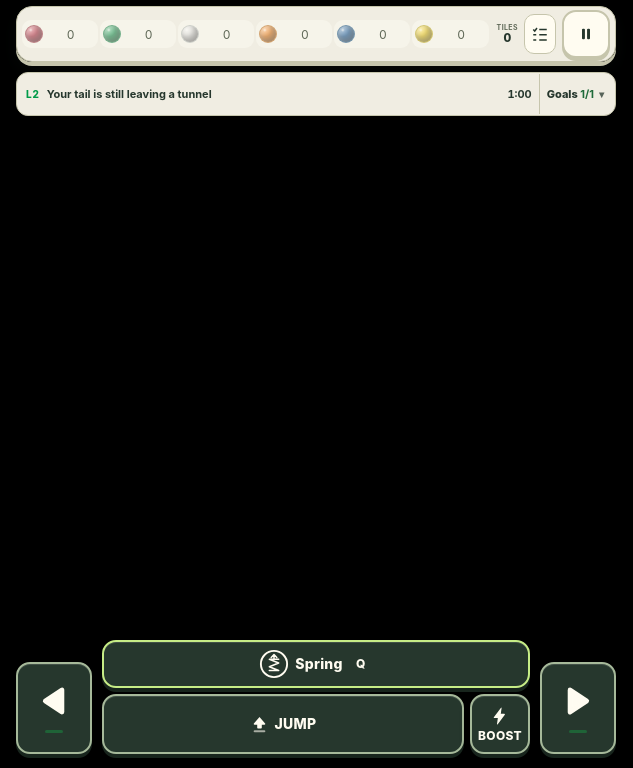
Test: replaces the next task with the finishing instruction once every task is done
Expected: the text with class "worm-story-next" reads "Your tail is still leaving a tunnel", [47,87,212,101]
What coordinates should you click on to do the following:
click the button with class "worm-story-glance"
I would click on:
 (575, 94)
Its box is [539,74,611,114].
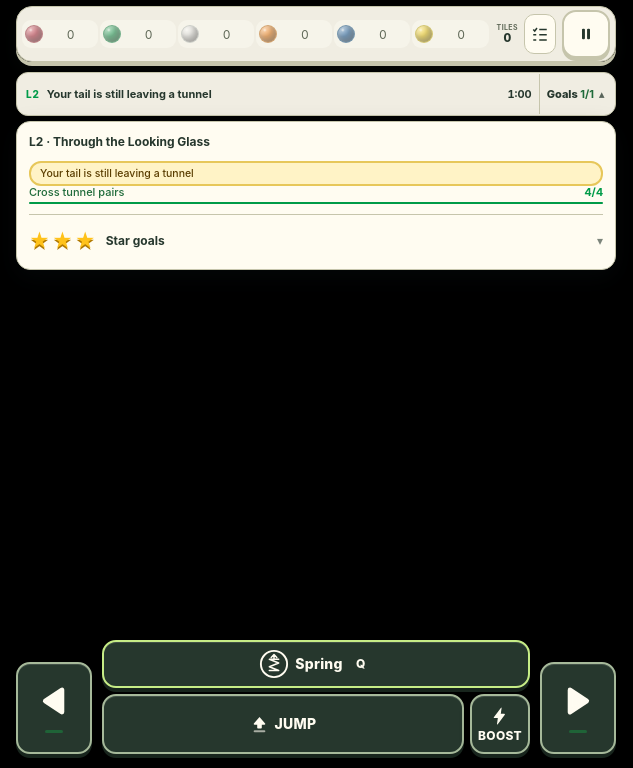
Expected: the text with class "worm-story-live-hint" reads "Your tail is still leaving a tunnel", [40,167,194,180]
